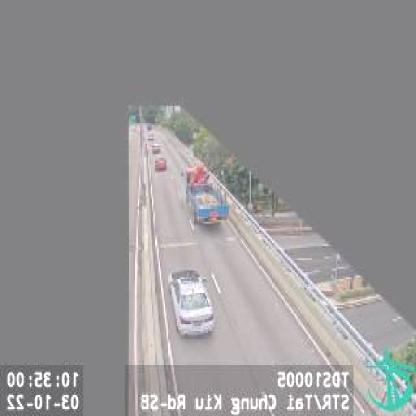Car: (170, 269, 217, 336), (156, 158, 168, 170), (151, 140, 160, 152)
Truck: (187, 162, 228, 226)
